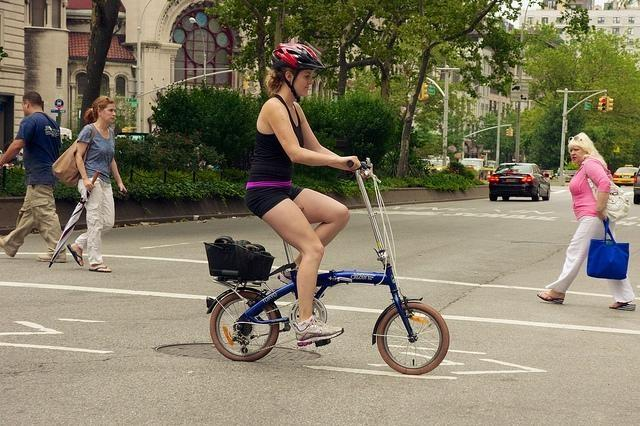bicycle: (201, 158, 454, 375)
car: (490, 165, 550, 202), (460, 158, 490, 179), (612, 167, 639, 187), (634, 168, 640, 206)
